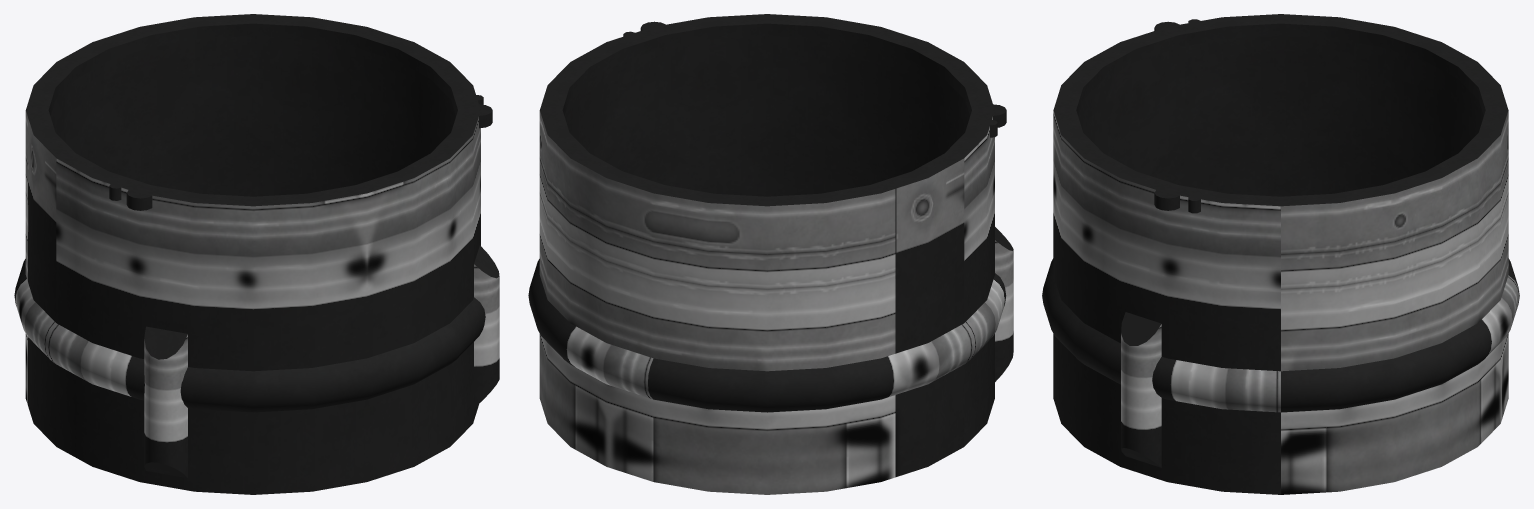
The model's file is shroud base.obj.
3 views of the same model, side by side, from view 1: azimuth 30°, elevation 25°; view 2: azimuth 150°, elevation 25°; view 3: azimuth 270°, elevation 25° (orthographic).
Visible parts, largest first — view 1: 2; view 2: 2; view 3: 2.
Boxes of the visible parts, left/top/right/bottom form: 2: left=14, top=14, right=499, bottom=494; 2: left=528, top=14, right=1013, bottom=494; 2: left=1042, top=14, right=1519, bottom=494.
Size of the model in its own units: 2.62 by 1.89 by 2.62.
